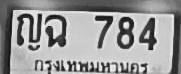4: (138, 16, 157, 51)
7: (94, 14, 114, 50)
8: (116, 16, 134, 50)
A09: (44, 14, 67, 47)
A13: (16, 12, 42, 51)
BKK: (30, 55, 149, 74)
